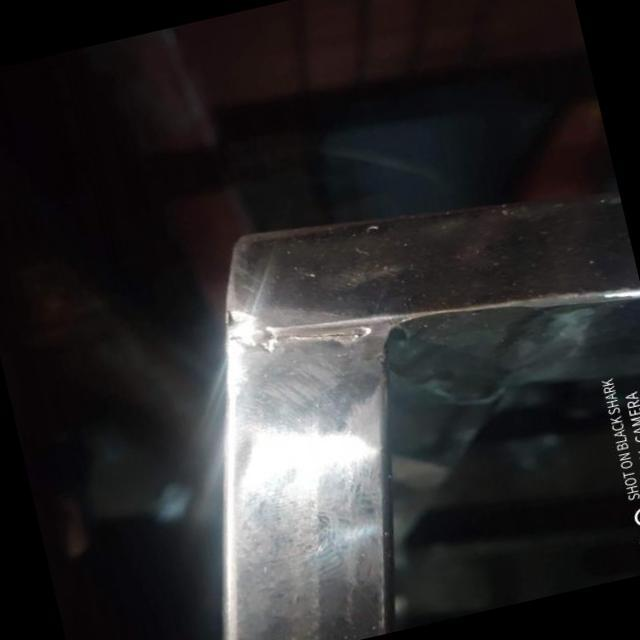defect: (273, 329, 367, 338)
